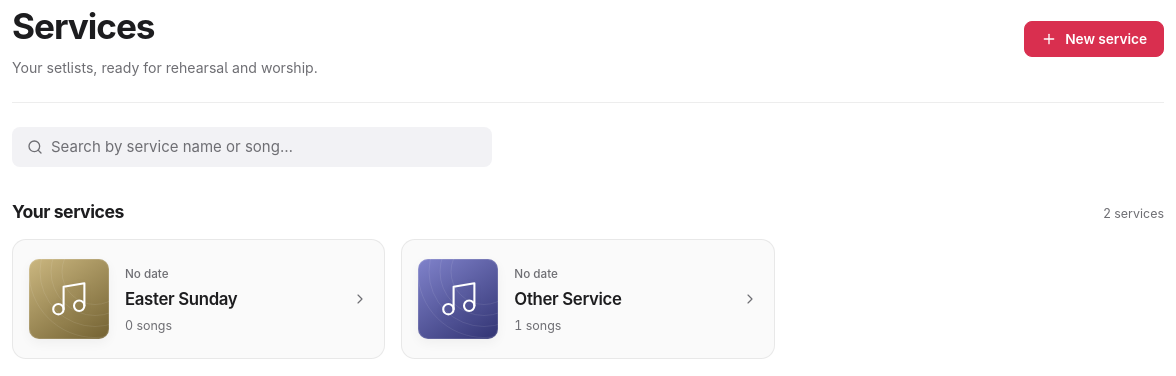
Test case: ServicesView › filters services by song title in their setlist
Type "amazing" into the search field with placeholder "Search by service name or song…" at (264,147), box [51, 137, 477, 156]
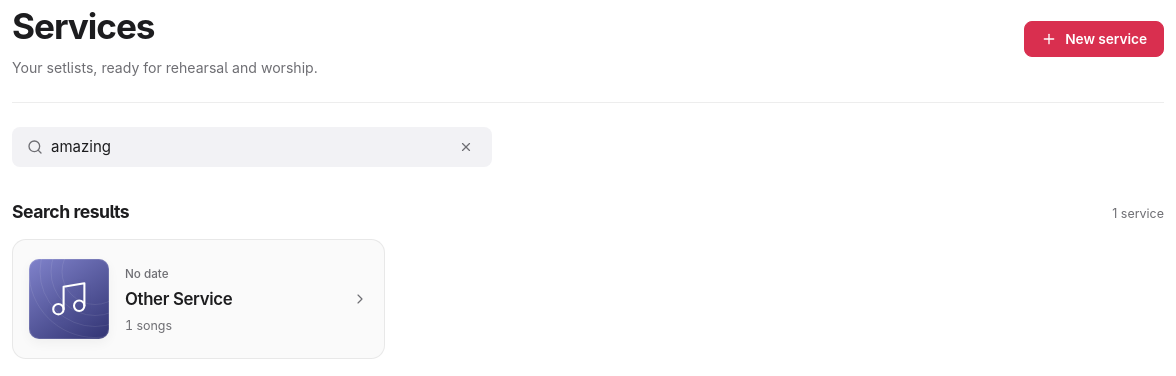
Expected: the text "Other Service" is shown, [125, 289, 232, 309]
Expected: the number of "ServiceCard" components is 1, [12, 239, 385, 359]
